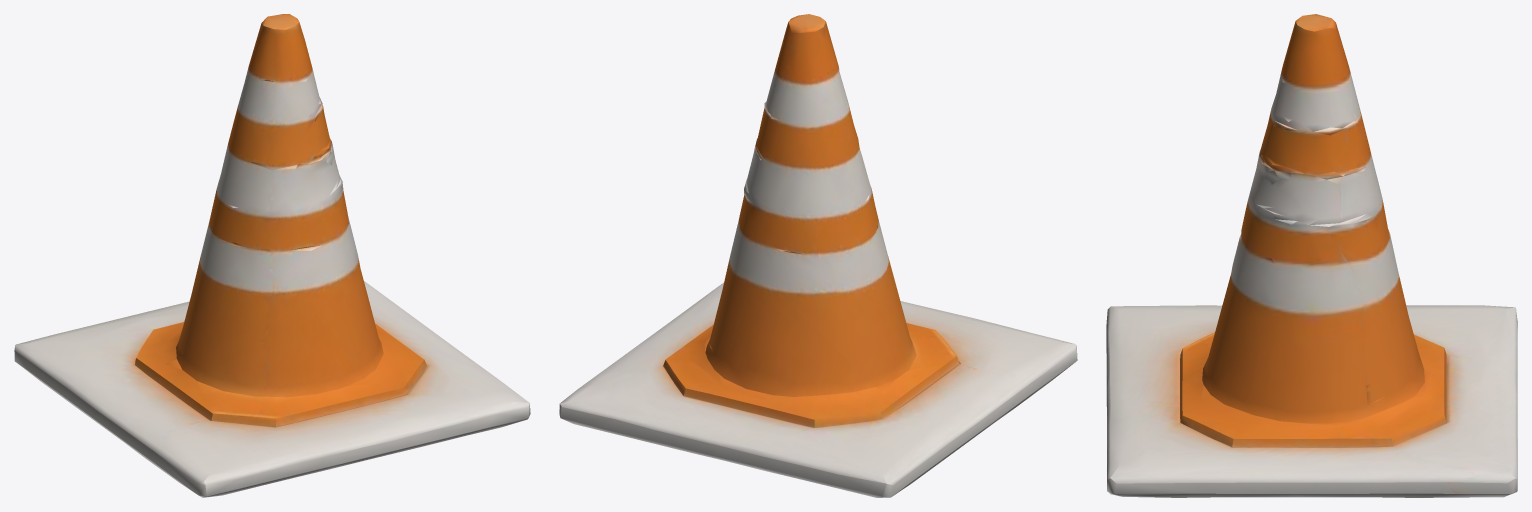
The model's file is m2TrafficCone.glb.
The picture shows the model from 3 angles, left to right: view 1: azimuth 30°, elevation 25°; view 2: azimuth 150°, elevation 25°; view 3: azimuth 270°, elevation 25°; orthographic projection. The views are drawn at different scales.
Visible parts, largest first — view 1: model; view 2: model; view 3: model.
Part boxes in pixels (<box>): model: <box>14,14,530,497</box>; model: <box>559,14,1077,497</box>; model: <box>1106,14,1517,497</box>.
Bounding box in the file's own units: 1.78 × 1.89 × 1.78.
1 material, 1 textured.
